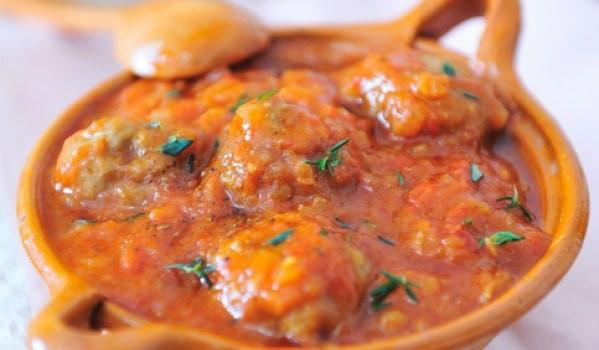DumAloo: (44, 37, 547, 346)
